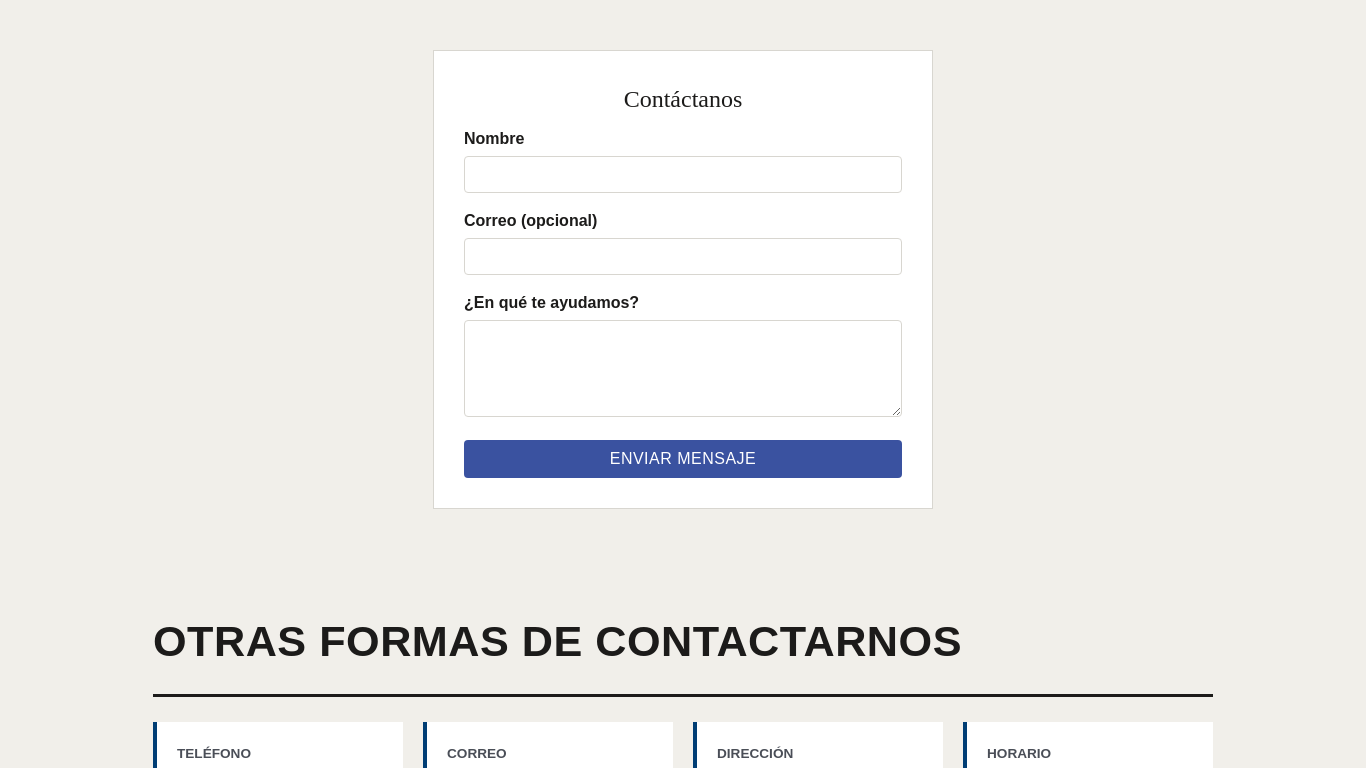
Test case: Contacto › rechaza un correo invalido
Type "correo@hotmail.com" into the field labelled "Correo (opcional)" at (683, 256), box [464,238,902,275]
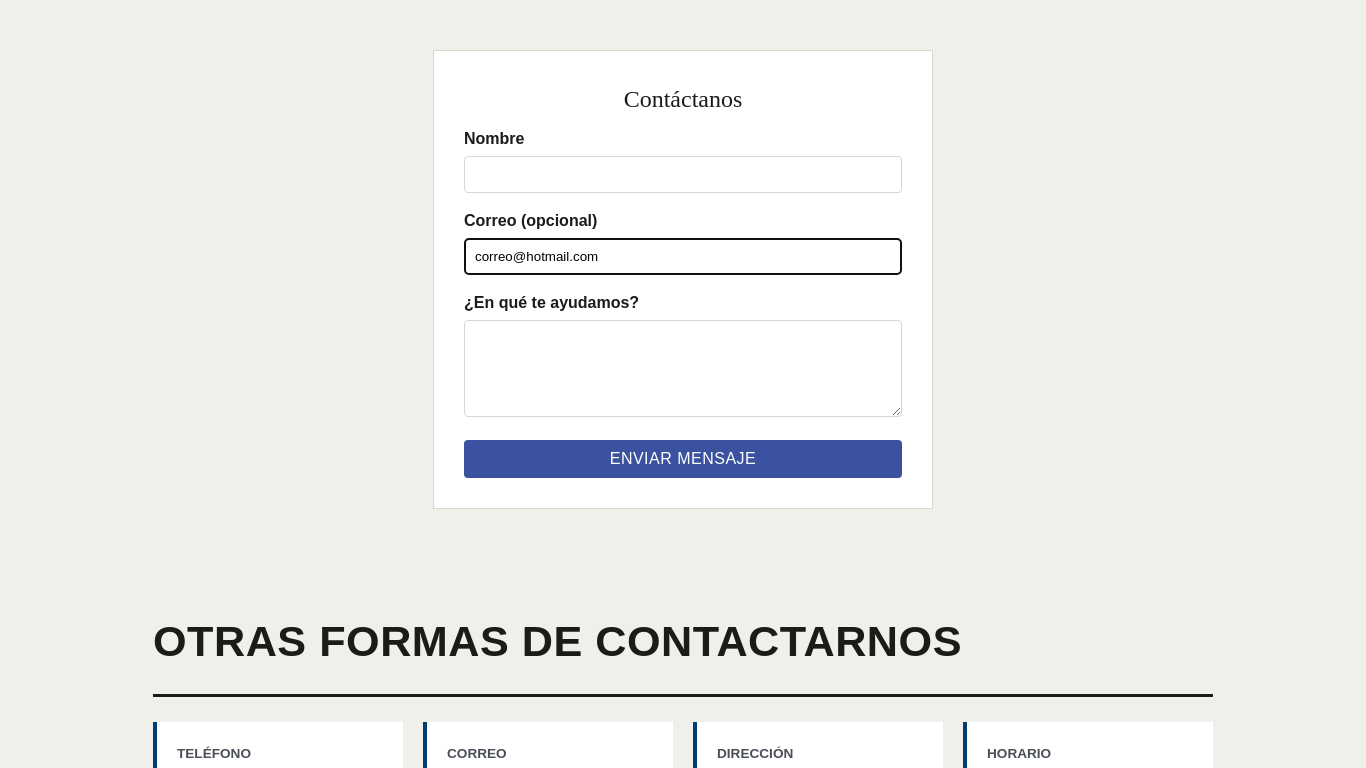
Click the button "Enviar mensaje" at (683, 459), box [464,440,902,478]
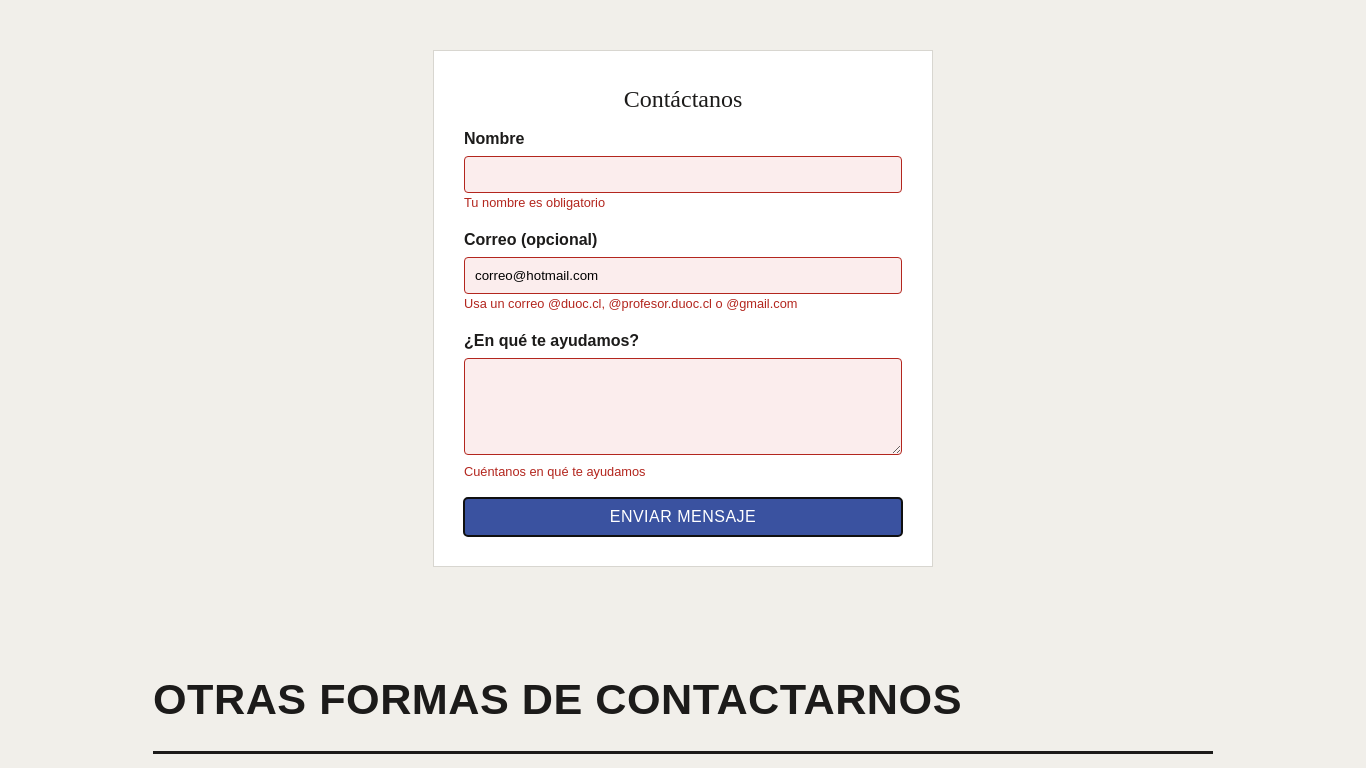
Check: the text "Usa un correo @duoc.cl, @profesor.duoc.cl o @gmail.com" is shown, box [464,296,797,311]
